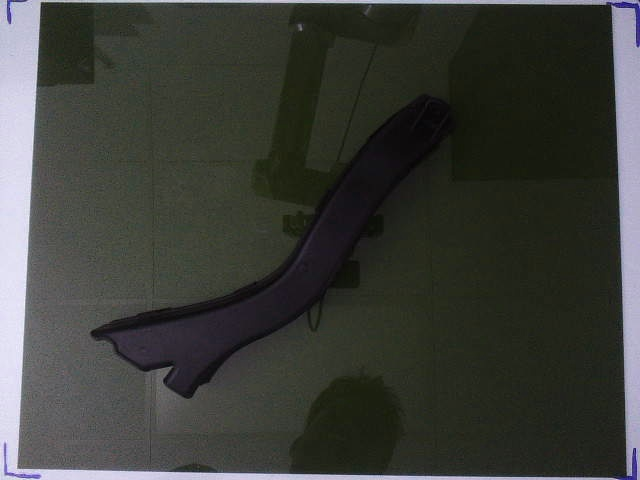887_B-Top: (92, 93, 453, 397)
